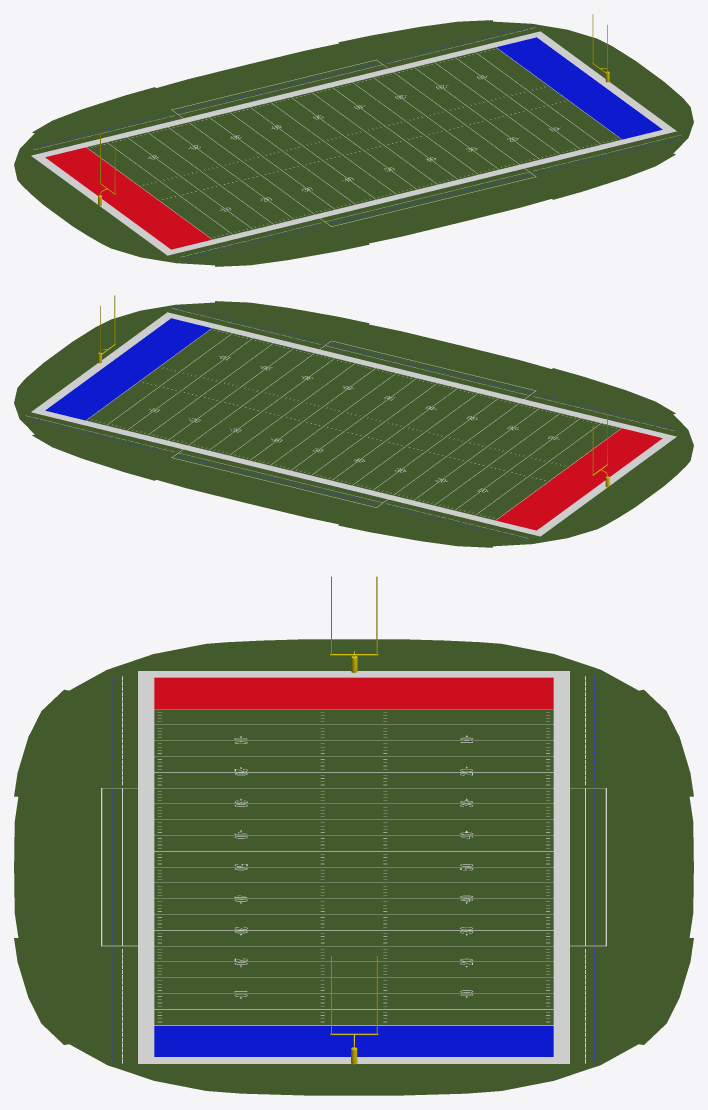
File: football_field_raw.glb
3 views of the same model, one above another, from view 1: azimuth 30°, elevation 25°; view 2: azimuth 150°, elevation 25°; view 3: azimuth 270°, elevation 25° (orthographic). The views are drawn at different scales.
Visible parts, largest first — view 1: field_grass, field_grass_dark, field_outline, field_grass_endzone_b, field_grass_endzone_A, field_markings, field_outline_white_thin, field_outline_yellow_thin; view 2: field_grass, field_grass_dark, field_outline, field_grass_endzone_b, field_grass_endzone_A, field_markings, field_outline_white_thin, field_outline_yellow_thin; view 3: field_grass, field_grass_dark, field_outline, field_grass_endzone_b, field_grass_endzone_A, field_markings, field_outline_white_thin, field_outline_yellow_thin.
Part boxes in pixels (<box>): field_grass: <box>14,20,693,266</box>; field_grass_dark: <box>107,52,600,234</box>; field_outline: <box>31,31,676,255</box>; field_grass_endzone_b: <box>45,147,211,249</box>; field_grass_endzone_A: <box>496,37,662,139</box>; field_markings: <box>86,47,621,239</box>; field_outline_white_thin: <box>34,27,681,257</box>; field_outline_yellow_thin: <box>30,25,684,259</box>; field_grass: <box>14,301,693,547</box>; field_grass_dark: <box>107,333,600,515</box>; field_outline: <box>31,312,676,536</box>; field_grass_endzone_b: <box>496,428,662,530</box>; field_grass_endzone_A: <box>45,318,211,420</box>; field_markings: <box>86,328,621,519</box>; field_outline_white_thin: <box>26,308,674,538</box>; field_outline_yellow_thin: <box>23,306,677,540</box>; field_grass: <box>14,639,693,1095</box>; field_grass_dark: <box>154,725,553,1008</box>; field_outline: <box>138,671,569,1063</box>; field_grass_endzone_b: <box>154,677,553,708</box>; field_grass_endzone_A: <box>154,1025,553,1056</box>; field_markings: <box>154,709,553,1025</box>; field_outline_white_thin: <box>101,676,606,1063</box>; field_outline_yellow_thin: <box>112,676,595,1063</box>.
Size of the model in its own units: 132 by 13.61 by 83.17.
